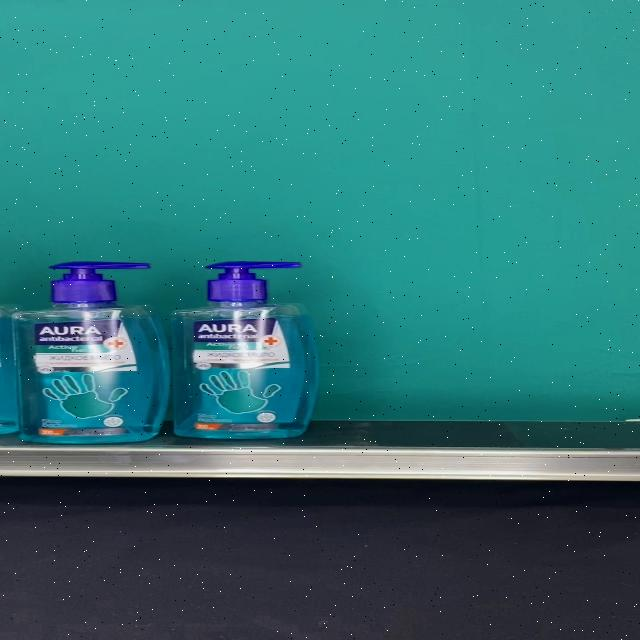Bottle: (12, 261, 170, 443), (170, 262, 320, 439)
Cap: (50, 262, 148, 302), (204, 262, 300, 302)
